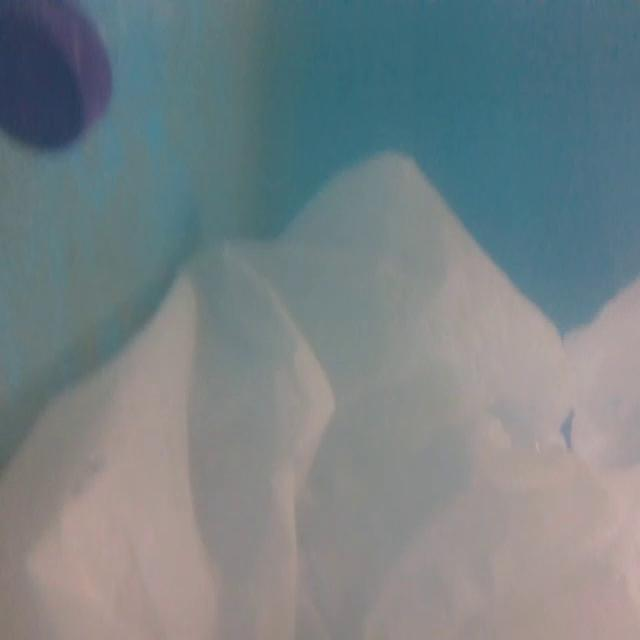plastic bags: (0, 157, 640, 640)
